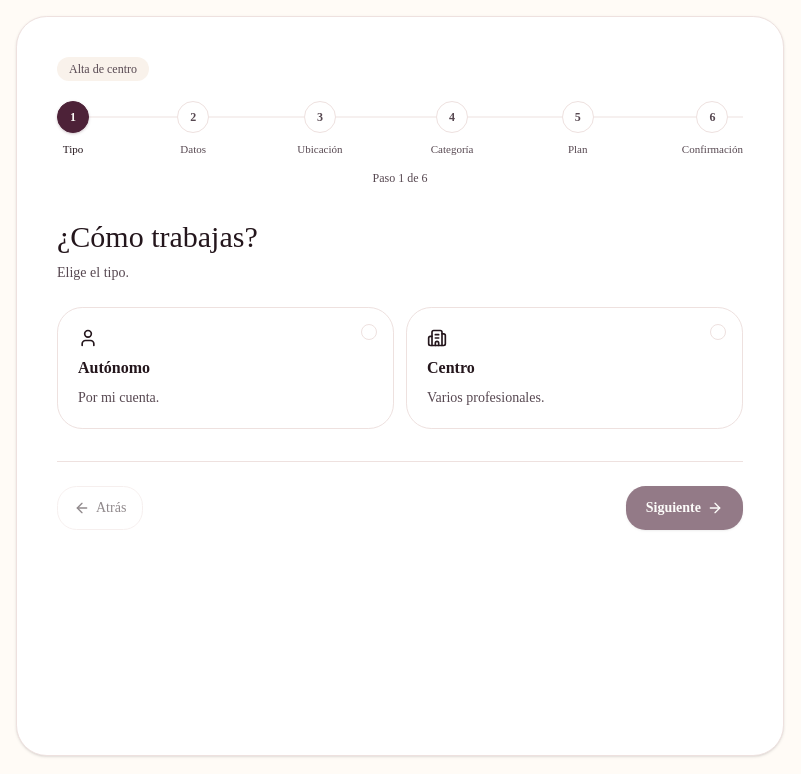
OnboardingWizard › deshabilita el botón Next hasta seleccionar un tipo de negocio
This screenshot has width=801, height=774.
Expected: the button with test id "onboarding-next" is disabled, [626,486,743,530]
Step 1. Click the radio button labelled "Autónomo Por mi cuenta." → (114, 368), box [57,307,394,429]
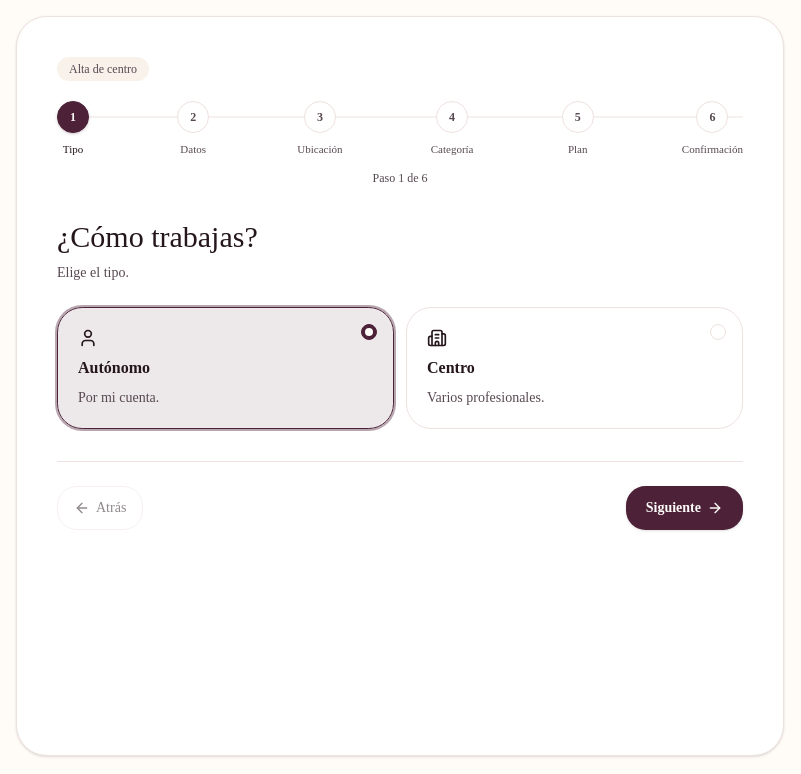
Expected: the button with test id "onboarding-next" is enabled, [626,486,743,530]
